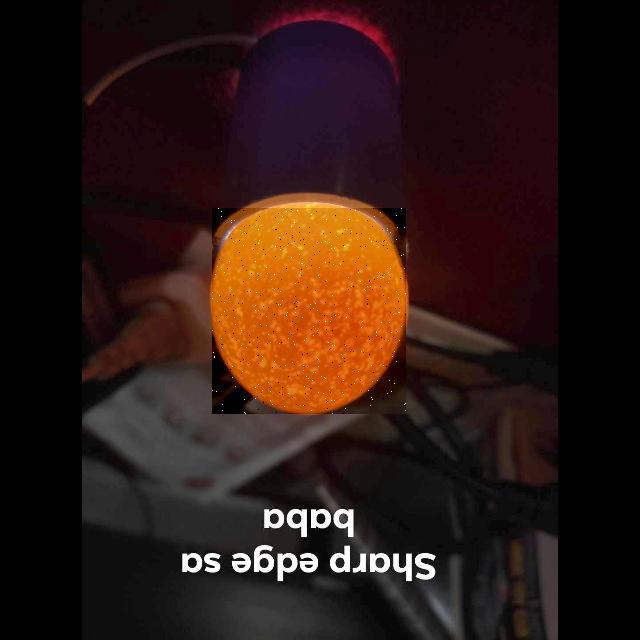Infertile: (212, 208, 406, 414)
